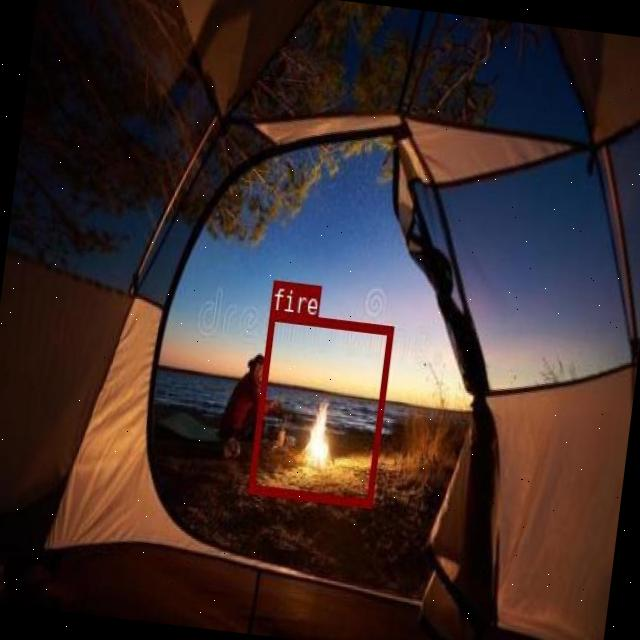fire: (247, 309, 393, 506)
